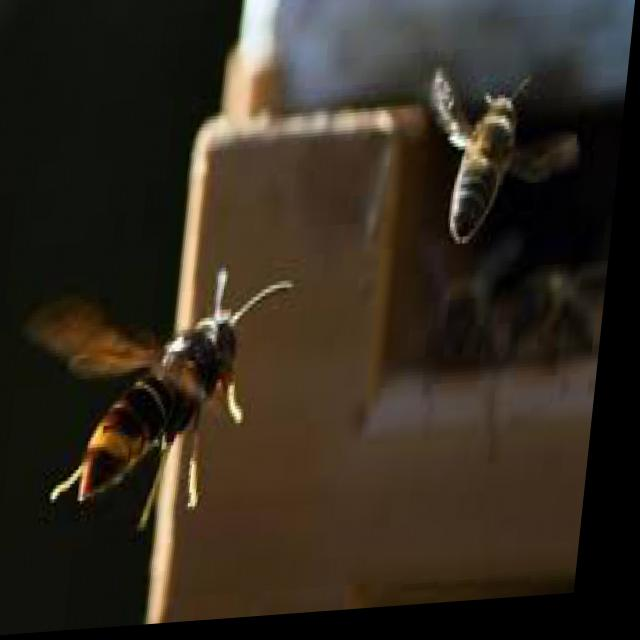Vespa Velutina: (11, 243, 315, 559)
